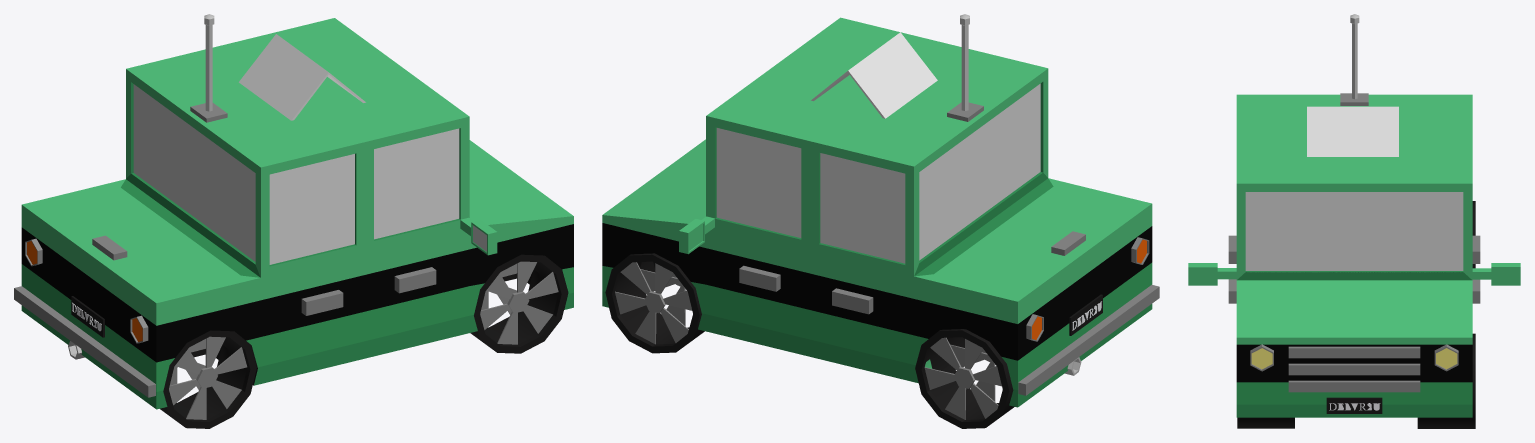
The model's file is Green Ding Dong Delivery Rival New Sedan.fbx.
The picture shows the model from 3 angles, left to right: view 1: azimuth 30°, elevation 25°; view 2: azimuth 150°, elevation 25°; view 3: azimuth 270°, elevation 25°; orthographic projection. The views are drawn at different scales.
Visible parts, largest first — view 1: Car_Body.005, Back_Right_Wheel_1.005, Back_Right_Wheel.005, Pizza_Delivery_Sign.005, Bumpers.005, Door_Handles.005, Antenna.005, Side_View_Mirrors.005, Break_Lights.005, License_Plates.005, Trunk_Handle.005; view 2: Car_Body.005, Back_Right_Wheel_3.005, Back_Right_Wheel_2.005, Pizza_Delivery_Sign.005, Bumpers.005, Door_Handles.005, Antenna.005, Side_View_Mirrors.005, Break_Lights.005, License_Plates.005; view 3: Car_Body.005, Bumpers.005, Pizza_Delivery_Sign.005, Side_View_Mirrors.005, Head_Lights.005, Back_Right_Wheel_3.005, License_Plates.005, Door_Handles.005, Antenna.005, Back_Right_Wheel_1.005.
Boxes of the visible parts, <box> form: Car_Body.005: <box>21,18,573,409</box>; Back_Right_Wheel_1.005: <box>470,254,567,353</box>; Back_Right_Wheel.005: <box>160,330,256,428</box>; Pizza_Delivery_Sign.005: <box>239,34,365,120</box>; Bumpers.005: <box>14,286,155,397</box>; Door_Handles.005: <box>301,267,436,315</box>; Antenna.005: <box>190,14,227,122</box>; Side_View_Mirrors.005: <box>460,217,497,255</box>; Break_Lights.005: <box>25,238,148,343</box>; License_Plates.005: <box>71,296,104,337</box>; Trunk_Handle.005: <box>92,235,127,260</box>; Car_Body.005: <box>602,17,1152,407</box>; Back_Right_Wheel_3.005: <box>605,253,704,353</box>; Back_Right_Wheel_2.005: <box>915,329,1014,428</box>; Pizza_Delivery_Sign.005: <box>811,32,937,118</box>; Bumpers.005: <box>1018,285,1159,395</box>; Door_Handles.005: <box>739,265,873,314</box>; Antenna.005: <box>947,14,983,121</box>; Side_View_Mirrors.005: <box>679,216,714,254</box>; Break_Lights.005: <box>1026,237,1149,341</box>; License_Plates.005: <box>1069,294,1102,335</box>; Car_Body.005: <box>1236,94,1472,417</box>; Bumpers.005: <box>1288,346,1420,392</box>; Pizza_Delivery_Sign.005: <box>1307,106,1398,156</box>; Side_View_Mirrors.005: <box>1188,263,1520,285</box>; Head_Lights.005: <box>1250,344,1458,371</box>; Back_Right_Wheel_3.005: <box>1417,333,1475,428</box>; License_Plates.005: <box>1326,397,1382,413</box>; Door_Handles.005: <box>1228,235,1480,303</box>; Antenna.005: <box>1340,14,1368,105</box>; Back_Right_Wheel_1.005: <box>1237,417,1294,428</box>.
Bounding box in the file's own units: 204 × 159 × 156.
